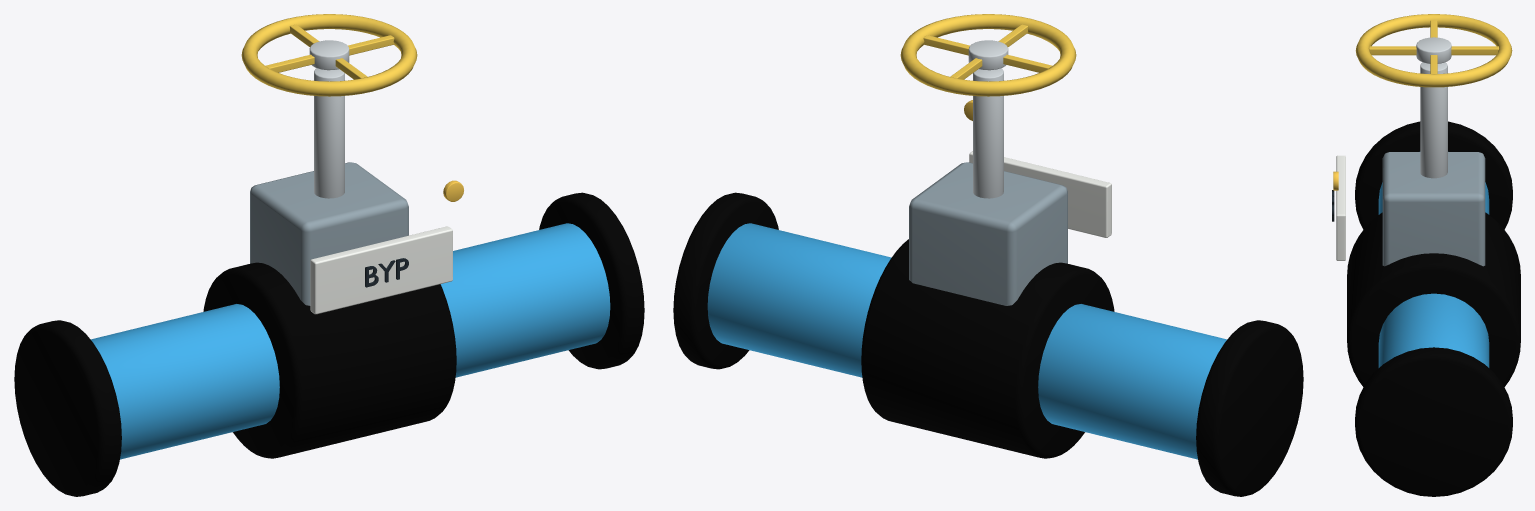
File: bypass-valve.glb
3 renders of one model, left to right at view 1: azimuth 30°, elevation 25°; view 2: azimuth 150°, elevation 25°; view 3: azimuth 270°, elevation 25°, orthographic. The views are drawn at different scales.
Visible parts, largest first — view 1: bypass valve heavy body, bypass valve left short interface sleeve, bypass valve right short interface sleeve, bypass valve left dark flange gasket, bypass valve bonnet, bypass valve side tag plate, bypass valve right dark flange gasket, bypass valve handwheel rim, bypass valve handwheel stem, bypass valve handwheel hub, bypass handwheel spoke 0; view 2: bypass valve heavy body, bypass valve left short interface sleeve, bypass valve right short interface sleeve, bypass valve bonnet, bypass valve left dark flange gasket, bypass valve right dark flange gasket, bypass valve handwheel rim, bypass valve handwheel stem, bypass valve side tag plate, bypass handwheel spoke 0, bypass valve handwheel hub; view 3: bypass valve right dark flange gasket, bypass valve heavy body, bypass valve bonnet, bypass valve right short interface sleeve, bypass valve left dark flange gasket, bypass valve handwheel rim, bypass valve handwheel stem, bypass valve side tag plate, bypass handwheel spoke 1, bypass valve handwheel hub, bypass handwheel spoke 0, bypass valve left short interface sleeve.
Boxes of the visible parts, x1,y1,x2,y2 form: bypass valve heavy body: (203, 262, 456, 458); bypass valve left short interface sleeve: (90, 304, 279, 459); bypass valve right short interface sleeve: (440, 223, 610, 377); bypass valve left dark flange gasket: (14, 320, 121, 496); bypass valve bonnet: (250, 162, 408, 305); bypass valve side tag plate: (310, 226, 452, 314); bypass valve right dark flange gasket: (539, 192, 644, 369); bypass valve handwheel rim: (241, 14, 417, 96); bypass valve handwheel stem: (314, 68, 344, 198); bypass valve handwheel hub: (309, 40, 349, 70); bypass handwheel spoke 0: (267, 35, 394, 72); bypass valve heavy body: (861, 239, 1114, 458); bypass valve left short interface sleeve: (1038, 304, 1227, 459); bypass valve right short interface sleeve: (707, 223, 891, 377); bypass valve bonnet: (909, 162, 1067, 305); bypass valve left dark flange gasket: (1196, 320, 1303, 496); bypass valve right dark flange gasket: (673, 192, 778, 369); bypass valve handwheel rim: (900, 14, 1076, 96); bypass valve handwheel stem: (973, 68, 1003, 198); bypass valve side tag plate: (969, 151, 1111, 237); bypass handwheel spoke 0: (923, 35, 1052, 72); bypass valve handwheel hub: (968, 40, 1008, 70); bypass valve right dark flange gasket: (1355, 347, 1512, 496); bypass valve heavy body: (1347, 212, 1520, 386); bypass valve bonnet: (1382, 152, 1485, 266); bypass valve right short interface sleeve: (1378, 293, 1489, 367); bypass valve left dark flange gasket: (1355, 121, 1512, 229); bypass valve handwheel rim: (1355, 14, 1512, 87); bypass valve handwheel stem: (1420, 62, 1447, 178); bypass valve side tag plate: (1336, 155, 1345, 260); bypass handwheel spoke 1: (1369, 46, 1499, 55); bypass valve handwheel hub: (1416, 37, 1451, 63); bypass handwheel spoke 0: (1430, 20, 1437, 73); bypass valve left short interface sleeve: (1378, 182, 1489, 214).
Size of the model in its own units: 1.42 by 0.958 by 0.478.
